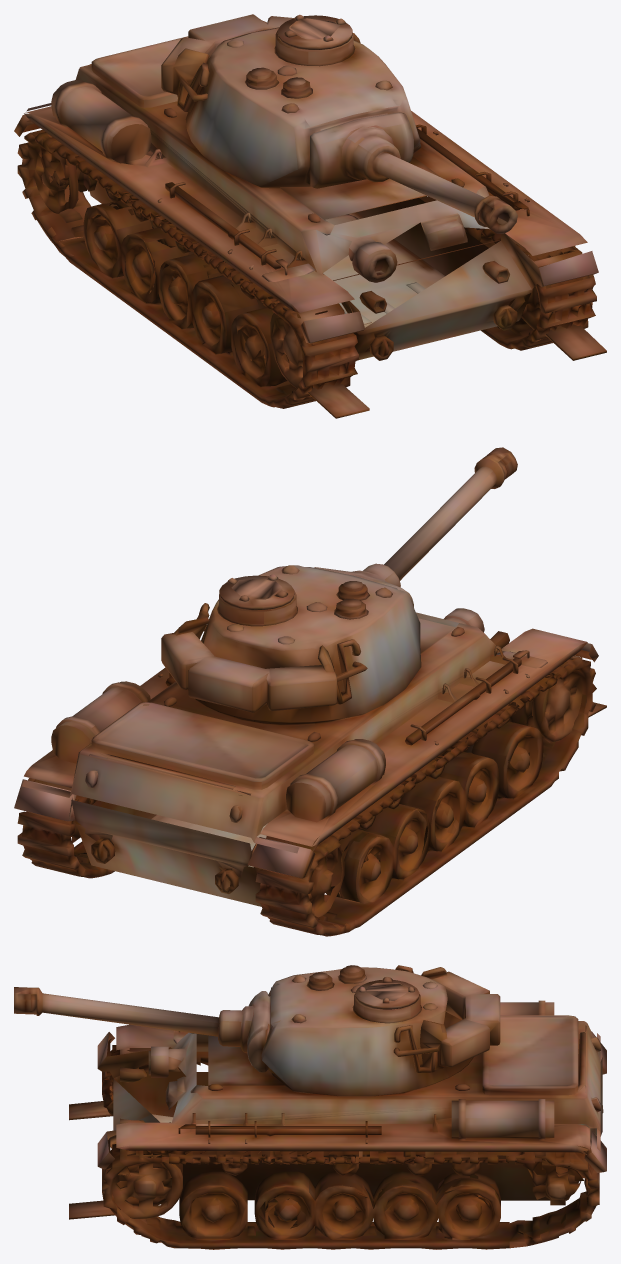
File: rusty_tank_07f4bc3d_v4.glb
The picture shows the model from 3 angles, top to bottom: view 1: azimuth 30°, elevation 25°; view 2: azimuth 150°, elevation 25°; view 3: azimuth 270°, elevation 25°; orthographic projection. The views are drawn at different scales.
Parts seen in each view (by area): view 1: material; view 2: material; view 3: material.
Part boxes in pixels (x1,y1,x2,y2): material: [14, 14, 606, 418]; material: [14, 447, 606, 936]; material: [14, 965, 606, 1249].
Bounding box in the file's own units: 0.9206 × 0.7647 × 1.9.
1 material, 1 textured.
